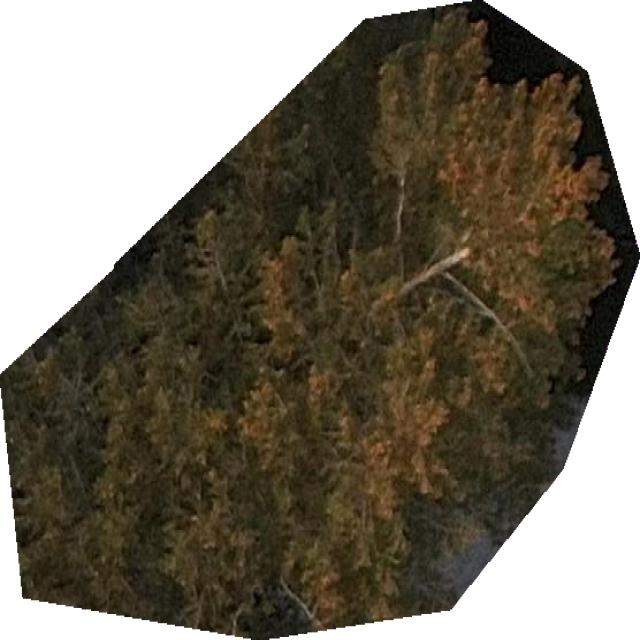spruce: (0, 0, 638, 638)
